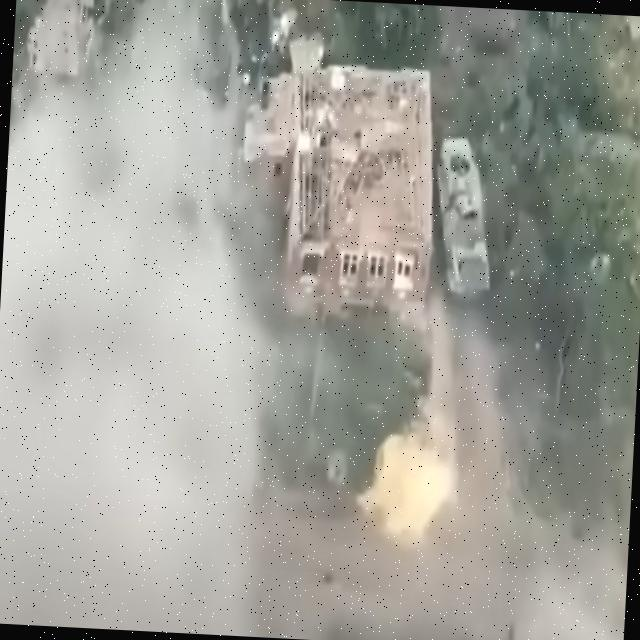APC: (428, 136, 503, 314)
